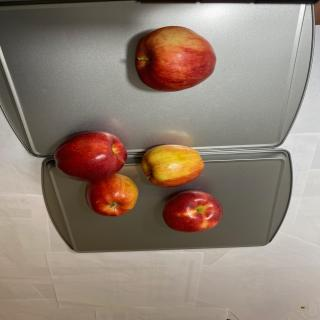Apple: (134, 25, 216, 92), (54, 131, 128, 181), (141, 144, 205, 188), (162, 190, 223, 232), (84, 173, 138, 217)
